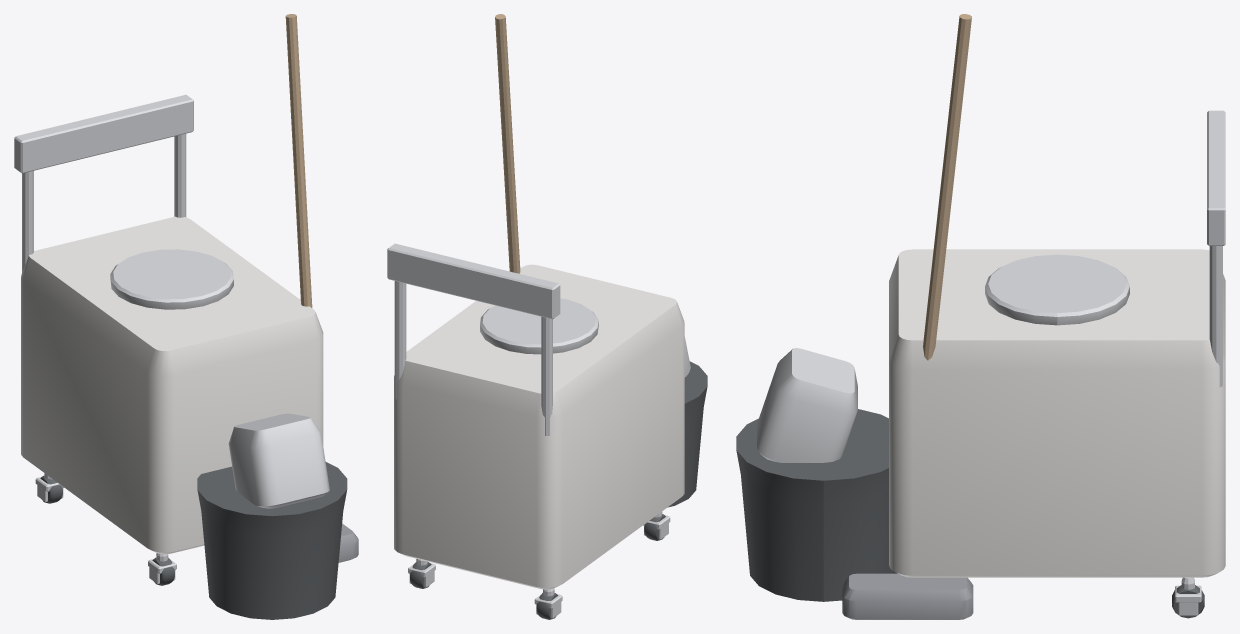
File: SM_Retail_25375_CleaningTrolley.fbx
3 views of the same model, side by side, from view 1: azimuth 30°, elevation 25°; view 2: azimuth 150°, elevation 25°; view 3: azimuth 270°, elevation 25° (orthographic). The views are drawn at different scales.
Parts seen in each view (by area): view 1: SM_Retail_25375_CleaningTrolley; view 2: SM_Retail_25375_CleaningTrolley; view 3: SM_Retail_25375_CleaningTrolley.
Part boxes in pixels (left/top/right/bottom): SM_Retail_25375_CleaningTrolley: left=14, top=14, right=358, bottom=619; SM_Retail_25375_CleaningTrolley: left=387, top=14, right=707, bottom=619; SM_Retail_25375_CleaningTrolley: left=736, top=14, right=1225, bottom=619.
Size of the model in its own units: 53.5 by 105 by 144.
